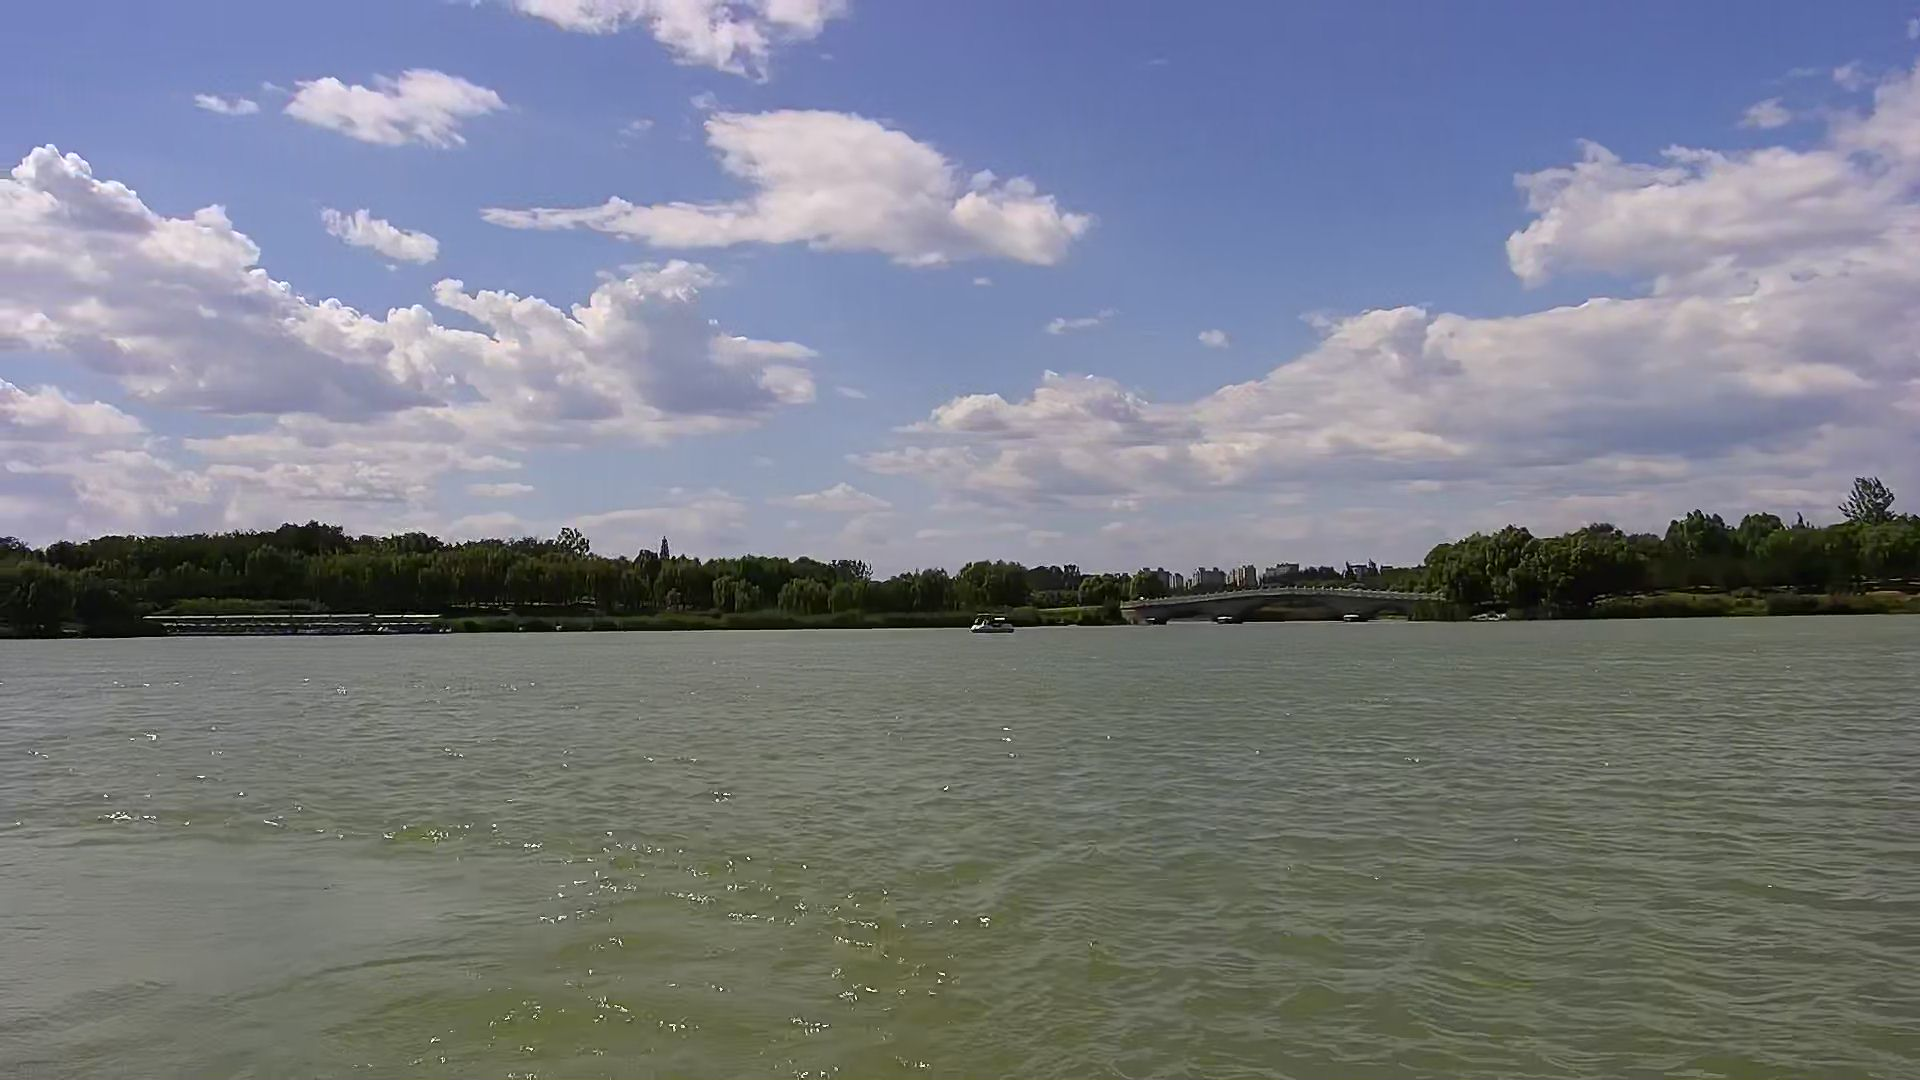boat: (964, 615, 1018, 636)
bridge: (1121, 587, 1444, 622), (150, 611, 447, 637)
